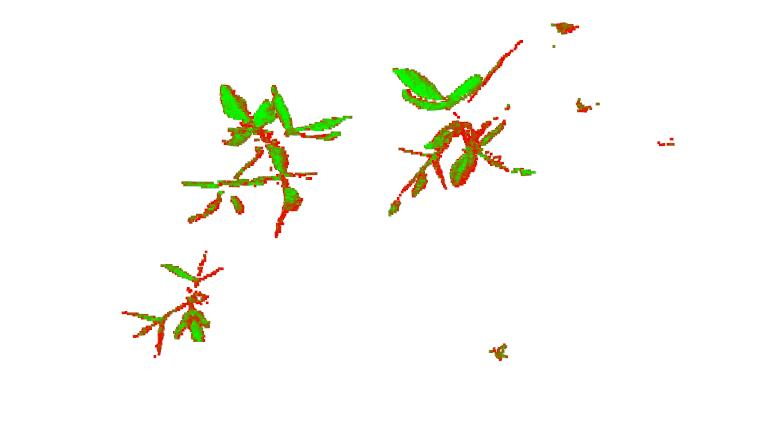mungbean: (181, 84, 354, 241), (387, 67, 536, 217), (116, 250, 228, 362)
